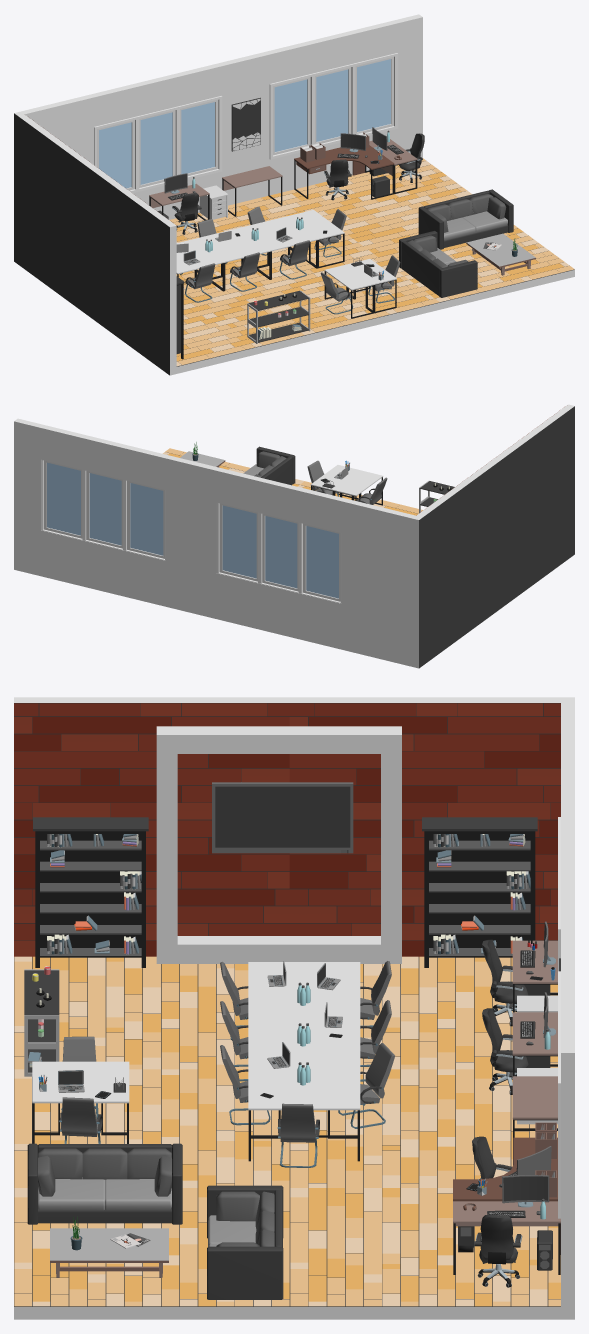
File: room_12.glb
3 views of the same model, one above another, from view 1: azimuth 30°, elevation 25°; view 2: azimuth 150°, elevation 25°; view 3: azimuth 270°, elevation 25° (orthographic). The views are drawn at different scales.
Visible parts, largest first — view 1: Walls_011.016, window_021.007, window_021.008, floor_015.057, floor_015.056, Walls_011.015, floor_015.059, Walls_006.066, Walls_006.070, Walls_006.068, floor_015.055, sofa_005.003 (+31 smaller); view 2: Walls_011.016, Walls_006.071, window_021.008, window_021.007, Walls_006.066, Walls_006.069, Walls_006.067, Walls_006.070, Walls_006.068, Walls_006.065, sofa_005.004, office_table_035.004 (+6 smaller); view 3: floor_001.029, floor_001.030, floor_015.056, floor_015.058, floor_015.059, floor_015.057, Walls_011.015, floor_015.055, shelf_048.004, shelf_048.003, floor_015.060, sofa_005.004 (+39 smaller).
Part boxes in pixels (<box>): Walls_011.016: <box>14,111,176,375</box>; window_021.007: <box>269,53,398,159</box>; window_021.008: <box>94,96,222,193</box>; floor_015.057: <box>228,246,439,334</box>; floor_015.056: <box>288,158,471,245</box>; Walls_011.015: <box>173,161,574,373</box>; floor_015.059: <box>176,279,304,366</box>; Walls_006.066: <box>217,51,270,205</box>; Walls_006.070: <box>92,64,220,126</box>; Walls_006.068: <box>267,21,395,83</box>; floor_015.055: <box>363,225,574,301</box>; sofa_005.003: <box>418,189,513,249</box>; Walls_011.016: <box>412,404,574,668</box>; Walls_006.071: <box>341,498,415,666</box>; window_021.008: <box>216,502,341,603</box>; window_021.007: <box>41,460,165,560</box>; Walls_006.066: <box>166,455,219,618</box>; Walls_006.069: <box>216,573,341,649</box>; Walls_006.067: <box>41,530,165,606</box>; Walls_006.070: <box>216,468,344,532</box>; Walls_006.068: <box>41,425,169,489</box>; Walls_006.065: <box>14,418,44,576</box>; sofa_005.004: <box>243,446,295,485</box>; office_table_035.004: <box>333,470,383,505</box>; floor_001.029: <box>14,703,289,957</box>; floor_001.030: <box>289,703,560,956</box>; floor_015.056: <box>290,1188,560,1306</box>; floor_015.058: <box>290,1069,557,1187</box>; floor_015.059: <box>14,956,248,1069</box>; floor_015.057: <box>14,1069,289,1187</box>; Walls_011.015: <box>14,957,560,1319</box>; floor_015.055: <box>14,1188,289,1306</box>; shelf_048.004: <box>33,817,148,967</box>; shelf_048.003: <box>422,817,537,967</box>; floor_015.060: <box>360,956,557,1069</box>; sofa_005.004: <box>27,1143,182,1224</box>.
Size of the model in its own units: 12 by 4.2 by 8.
Materials: 1 (1 with a texture image).
